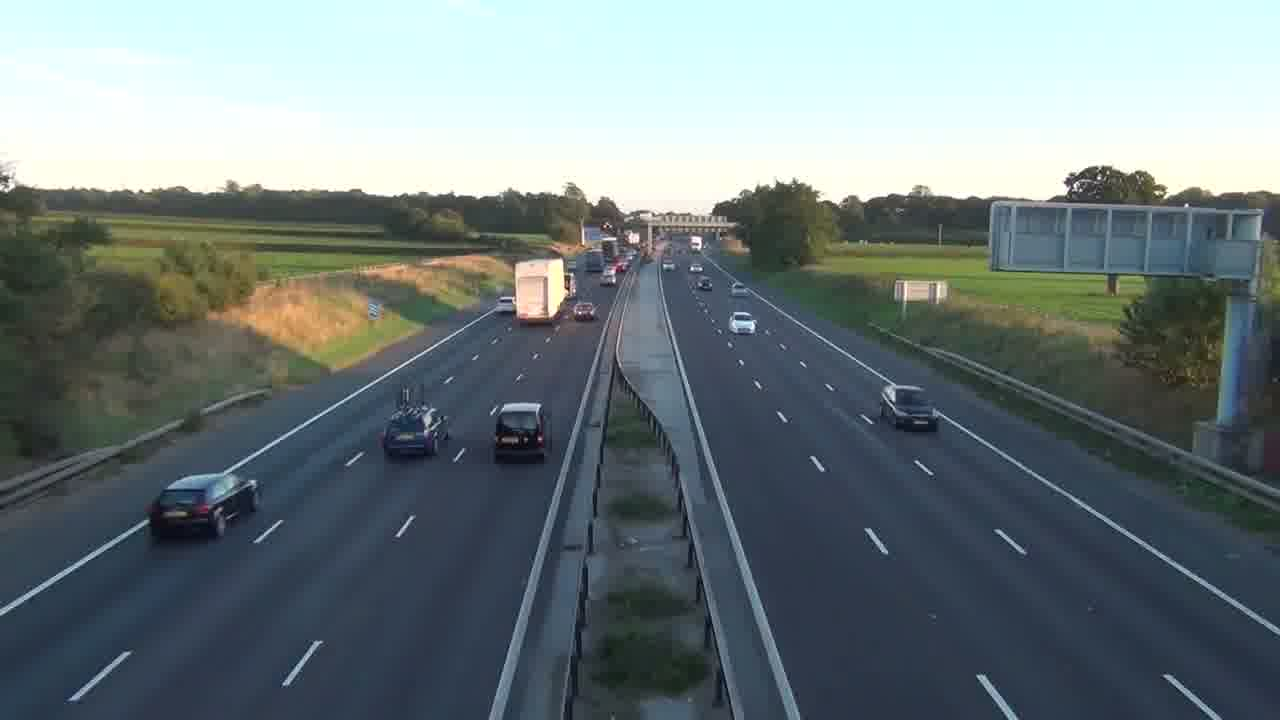car: (145, 471, 260, 541), (381, 405, 449, 458), (879, 383, 939, 431), (572, 301, 597, 322), (698, 278, 712, 291)
truck: (513, 258, 568, 325)
